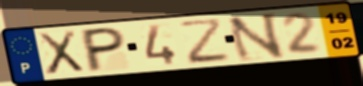2: (280, 11, 324, 56)
4: (144, 23, 180, 67)
N: (225, 11, 287, 64)
P: (82, 26, 127, 75)
X: (35, 29, 86, 77)
Z: (176, 16, 233, 66)
